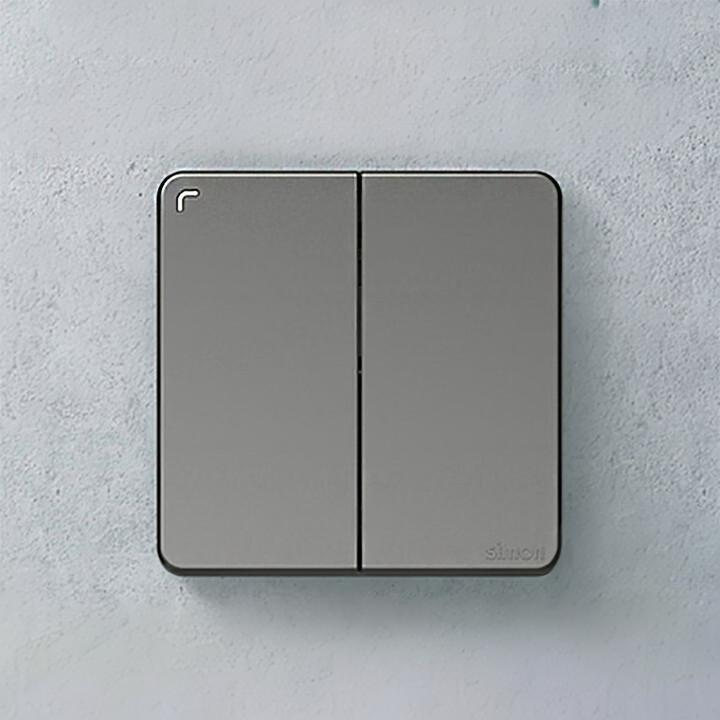button: (155, 169, 567, 581)
